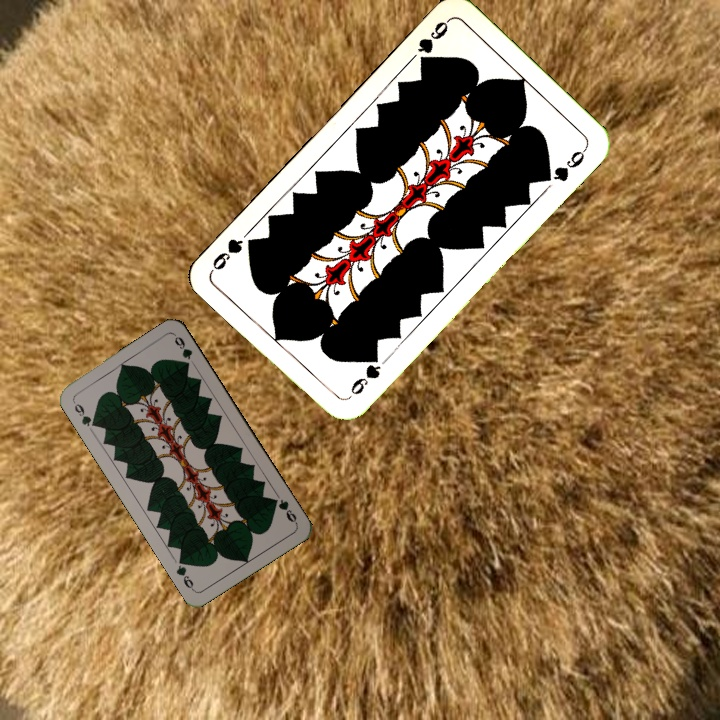G9: (413, 15, 453, 69), (344, 350, 383, 402), (268, 494, 300, 527), (69, 397, 100, 430)
